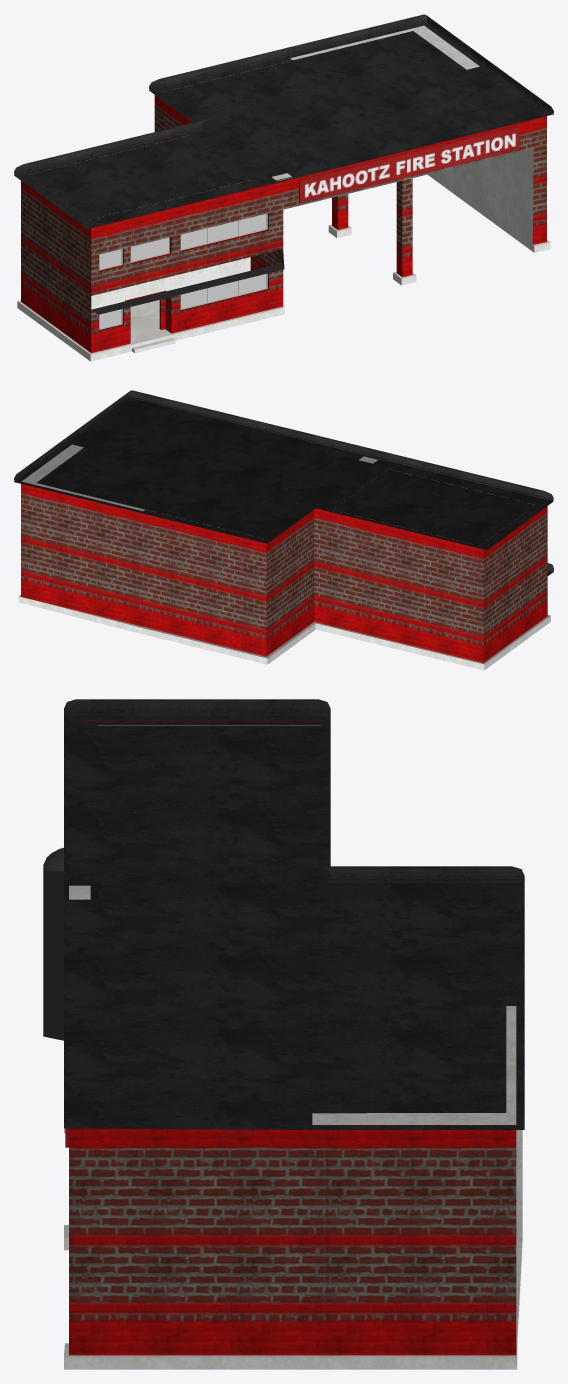
Rendered from ENVO_FireStation.obj.
3 views of the same model, one above another, from view 1: azimuth 30°, elevation 25°; view 2: azimuth 150°, elevation 25°; view 3: azimuth 270°, elevation 25° (orthographic). The views are drawn at different scales.
Visible parts, largest first — view 1: Building; view 2: Building; view 3: Building.
Part boxes in pixels (x1,y1,x2,y2): Building: (14,14,553,361); Building: (14,390,553,670); Building: (43,699,524,1369).
Size of what is drawn, in the model's own units: 1809 by 547 by 888.
6 materials, 4 textured.
